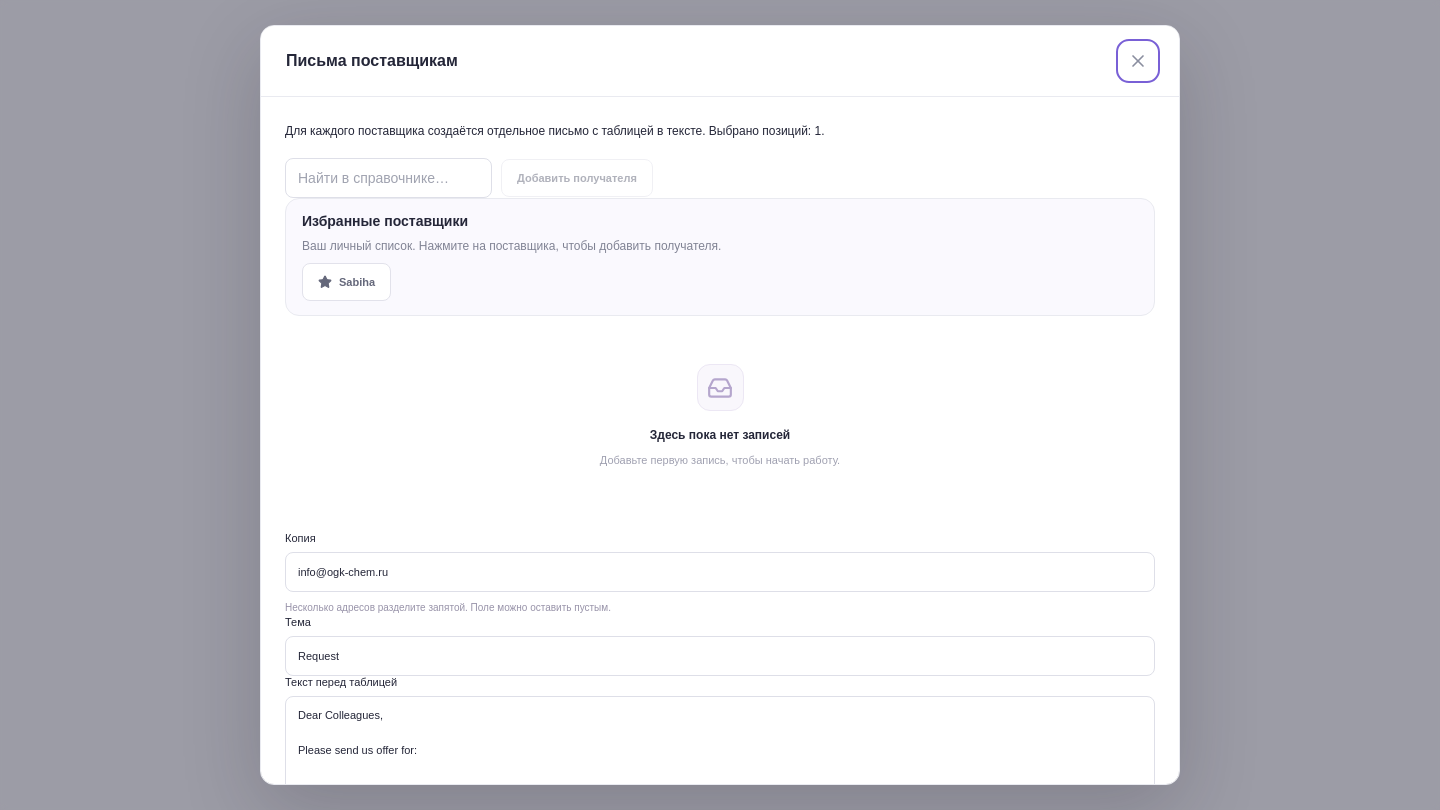
adds a favorite through the regular recipient path, deduplicates it and never sends mail
Click the button "Sabiha".
click(347, 282)  # box [302,263,391,301]
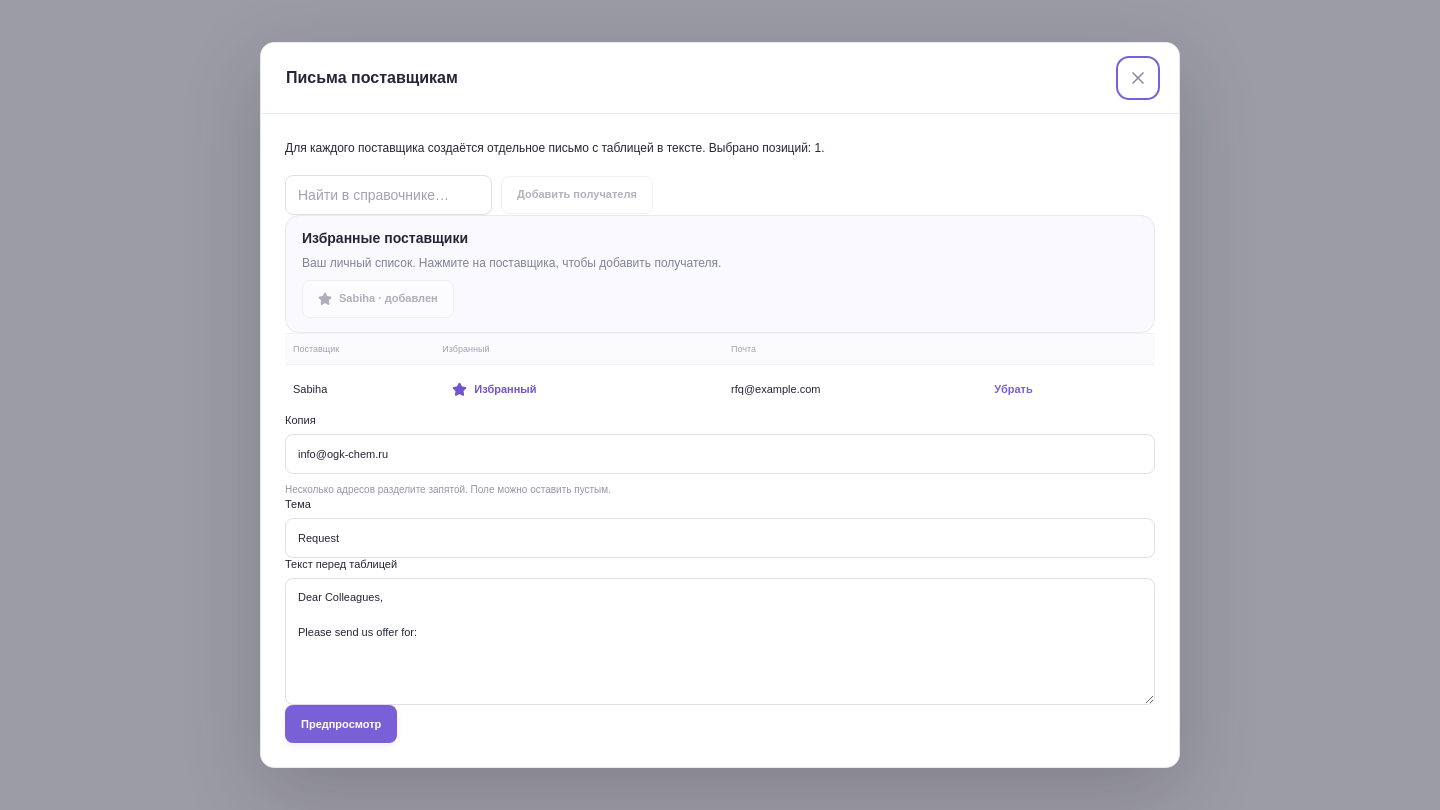
expect the text "rfq@example.com" is shown: met, box [723,364,976,414]
expect the button "Sabiha · добавлен" is disabled: met, box [302,280,454,318]
Focus the dropdown at x=388, y=195, box [285,175,492,215]
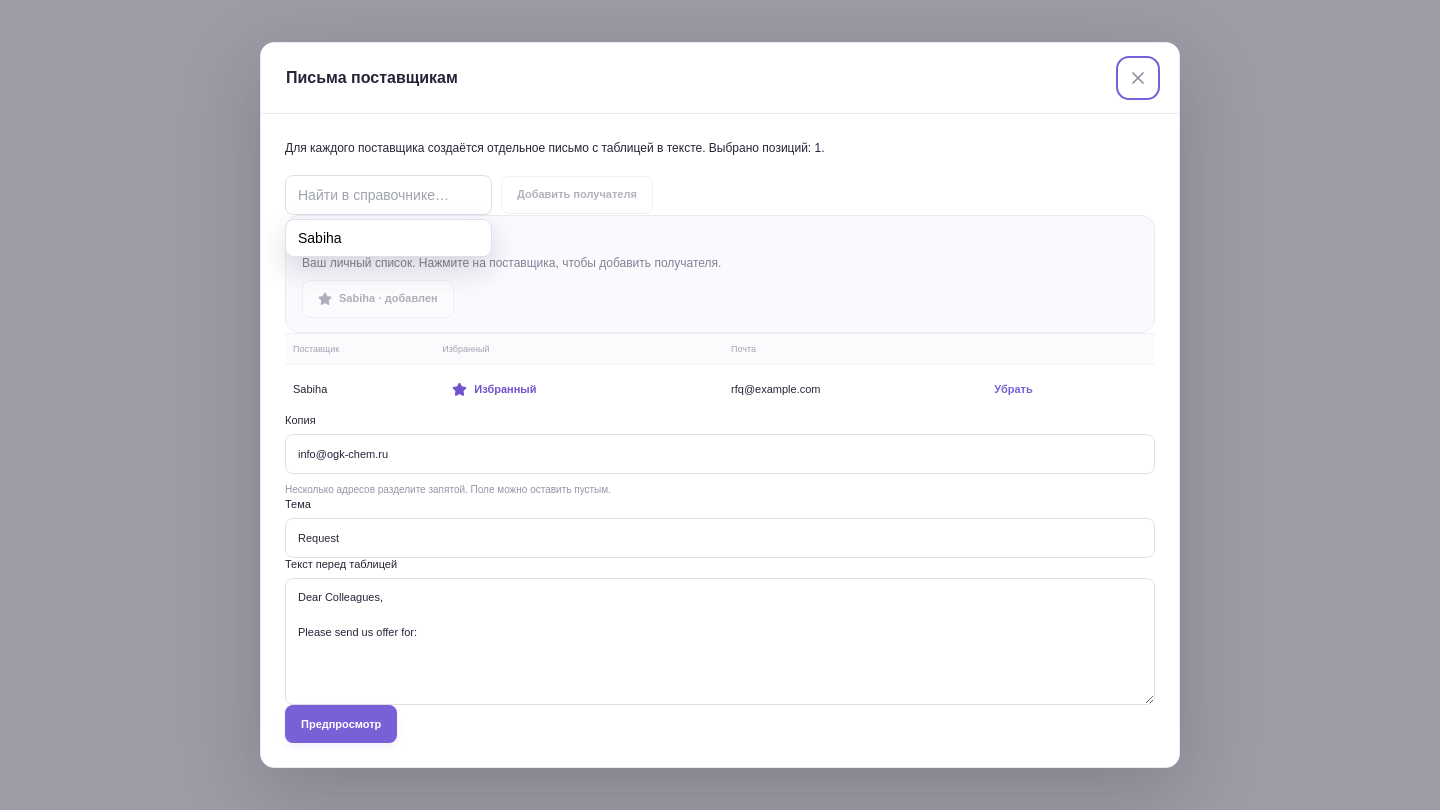
Click the option "Sabiha".
click(388, 238)  # box [286,220,491,256]
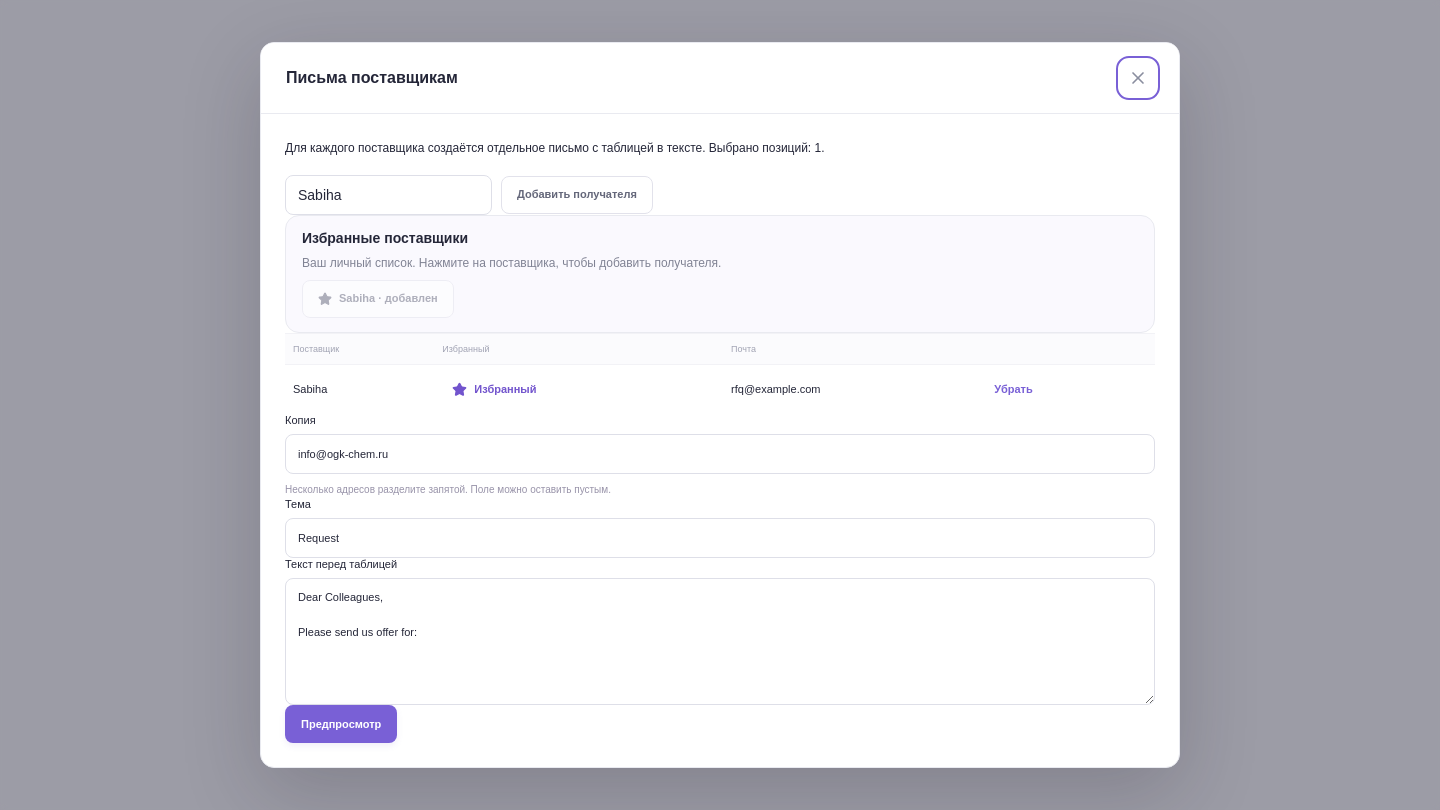
Click the button "Добавить получателя".
click(577, 195)  # box [501,176,653,214]
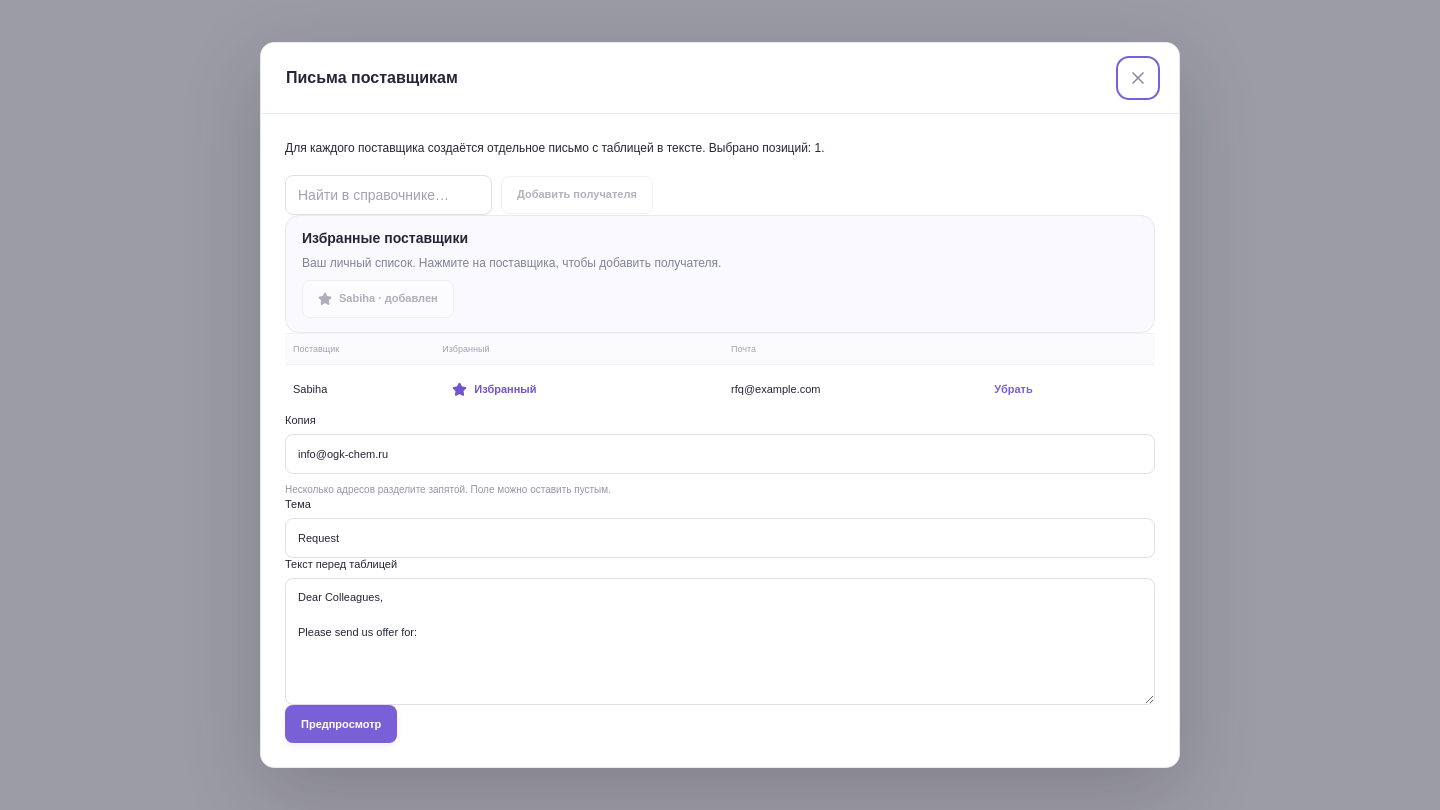
expect the button "Добавить получателя" is disabled: met, box [501,176,653,214]
Click the button "Предпросмотр".
click(341, 724)  # box [285,706,397,744]
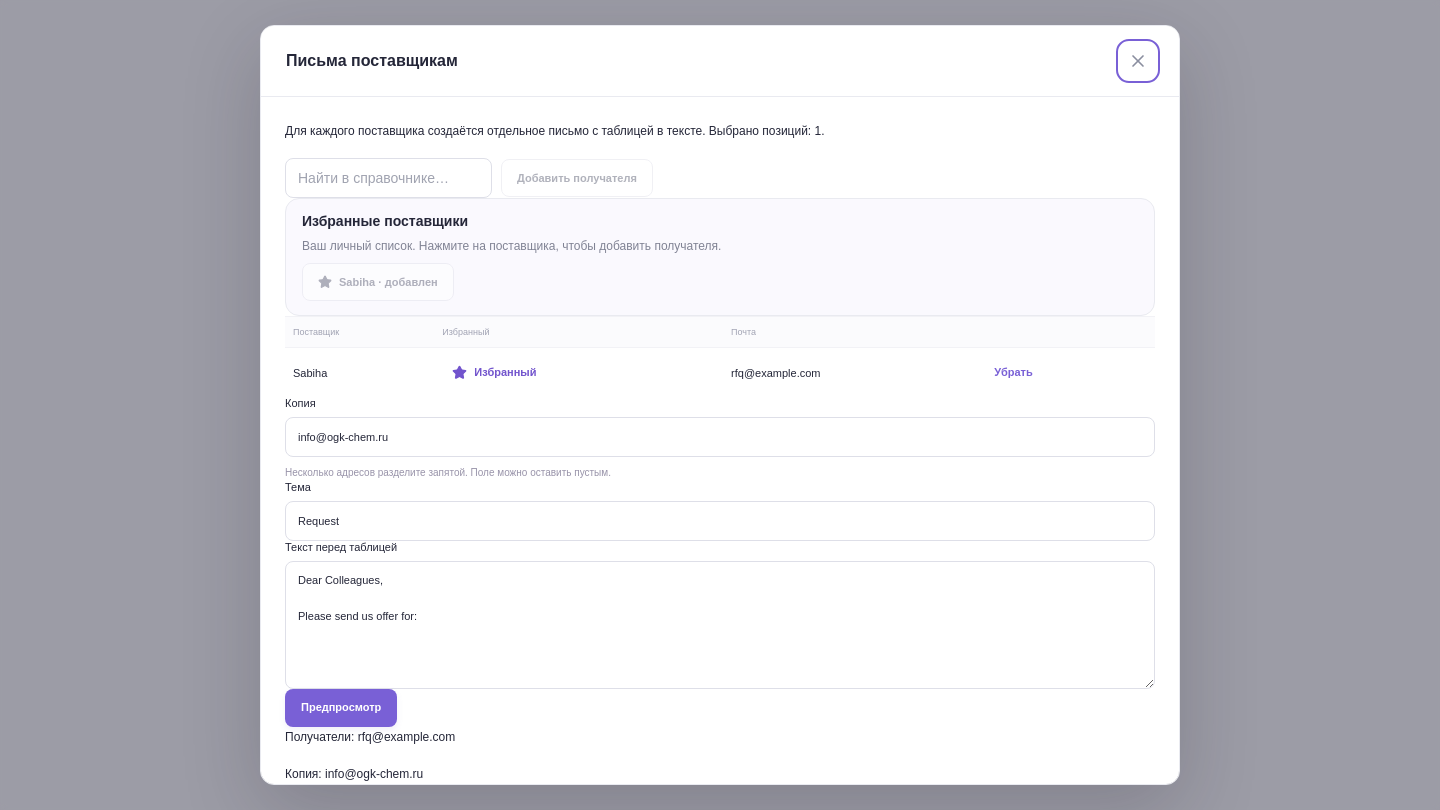
Click the button with aria-label "Убрать Sabiha из избранного".
click(494, 373)  # box [442,358,546,387]
(page scrolled)
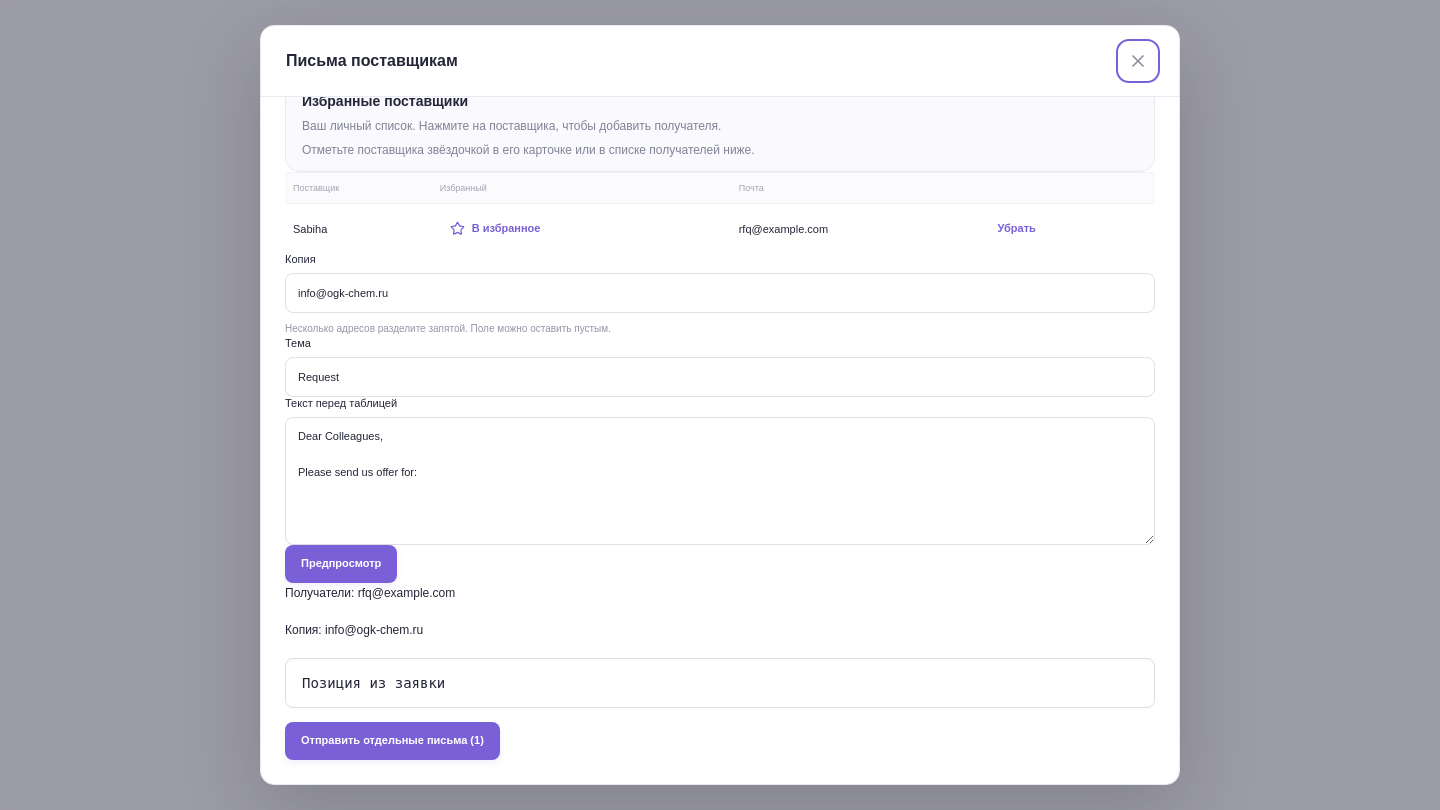
expect the text "rfq@example.com" is shown: met, box [731,204,980,253]
expect the text "Отметьте поставщика звёздочкой" is shown: met, box [302,143,755,157]
expect the button "Отправить отдельные письма (1)" is shown: met, box [285,722,500,760]
